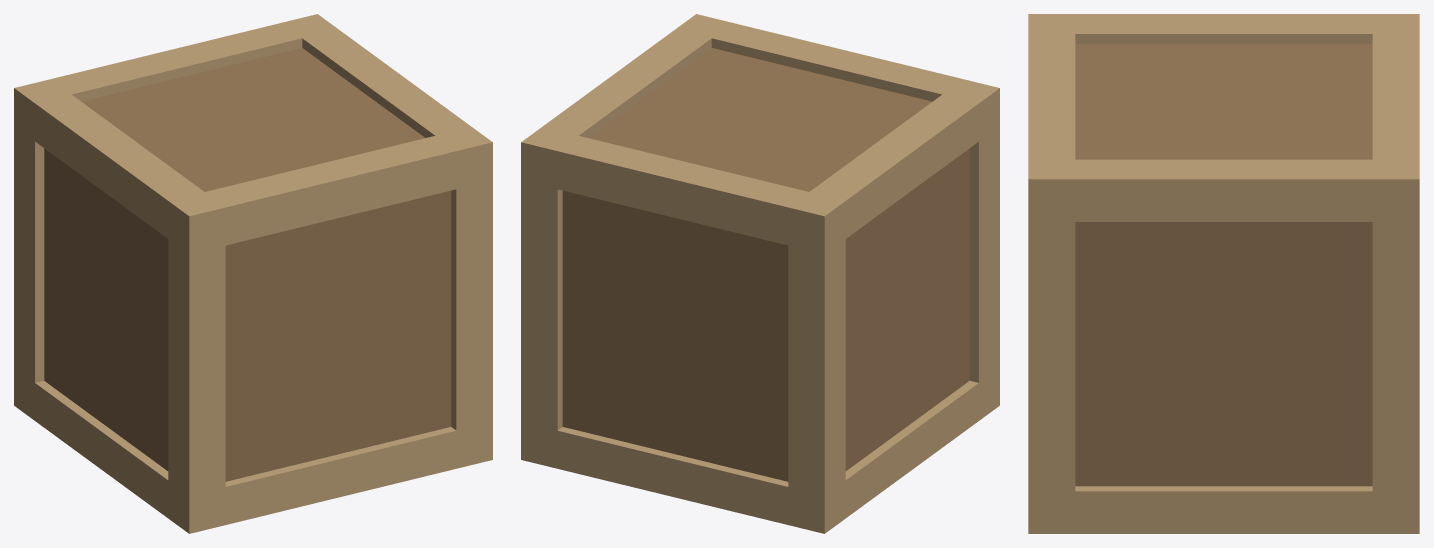
The model's file is crate.glb.
3 renders of one model, left to right at view 1: azimuth 30°, elevation 25°; view 2: azimuth 150°, elevation 25°; view 3: azimuth 270°, elevation 25°, orthographic. The views are drawn at different scales.
Visible parts, largest first — view 1: Crate; view 2: Crate; view 3: Crate.
Boxes of the visible parts, left/top/right/bottom form: Crate: left=14, top=14, right=492, bottom=533; Crate: left=521, top=14, right=999, bottom=533; Crate: left=1028, top=14, right=1419, bottom=533.
Bounding box in the file's own units: 1 × 1 × 1.
